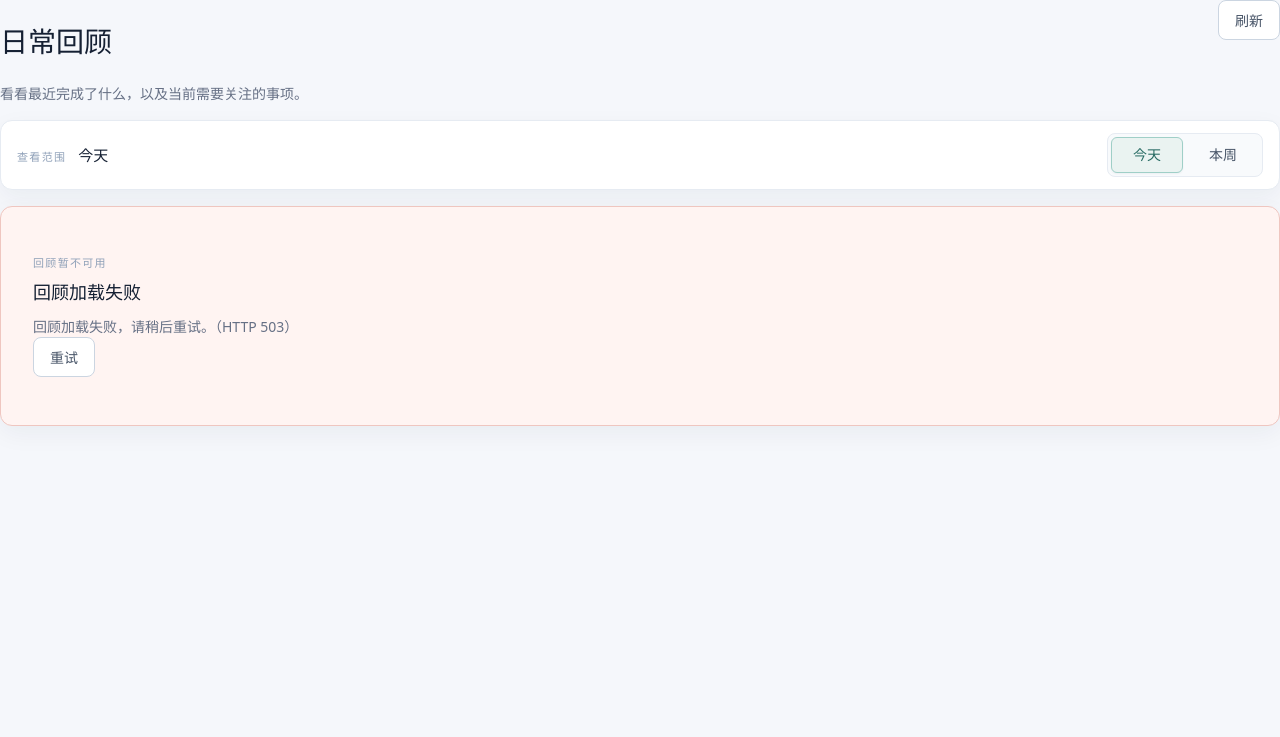
ReviewView › shows a retryable error and clears it after success
Expected: the message "回顾暂不可用 回顾加载失败 回顾加载失败，请稍后重试。（HTTP 503） 重试" is shown, [0,206,1279,426]
Click the button "重试". click: (64, 357)
box: [33,337,95,377]
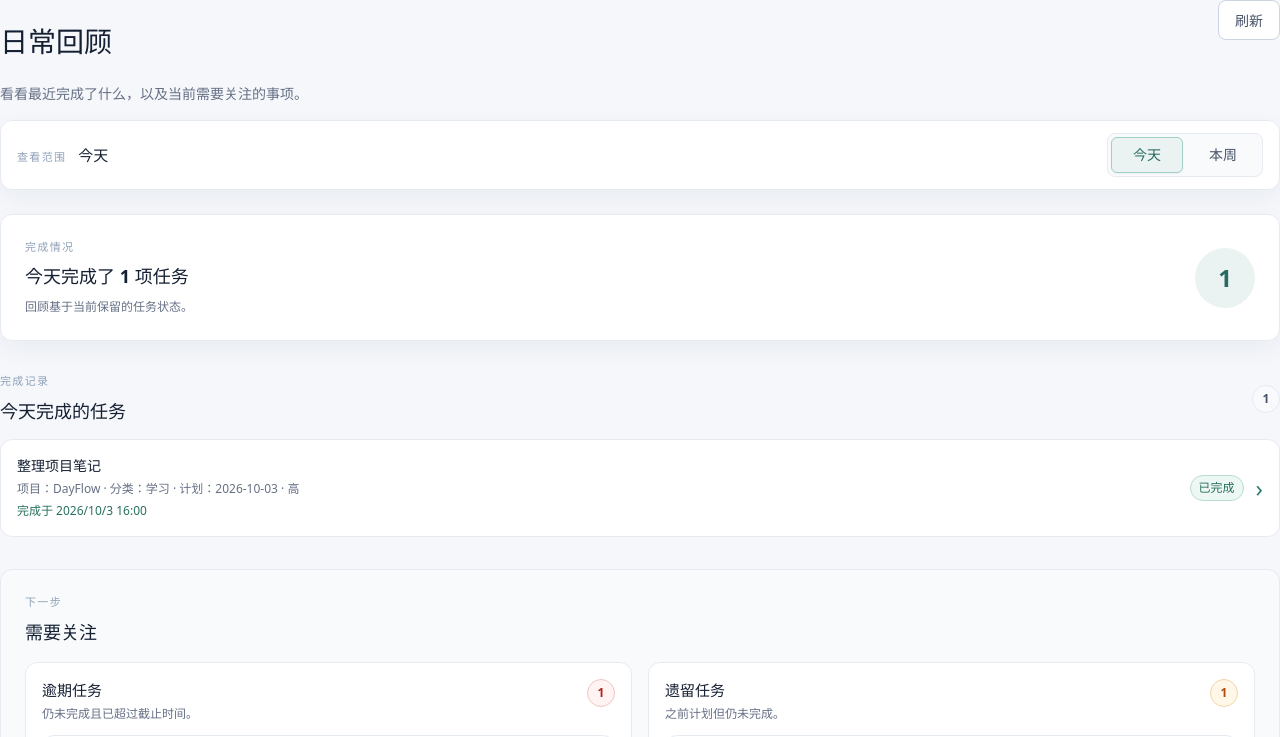
Result: the text "整理项目笔记" is shown at [17,456,101,475]
